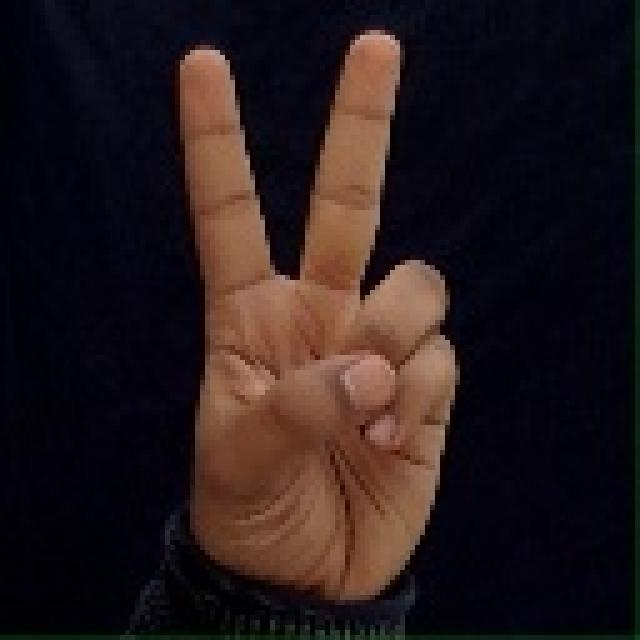No: (146, 11, 480, 628)
